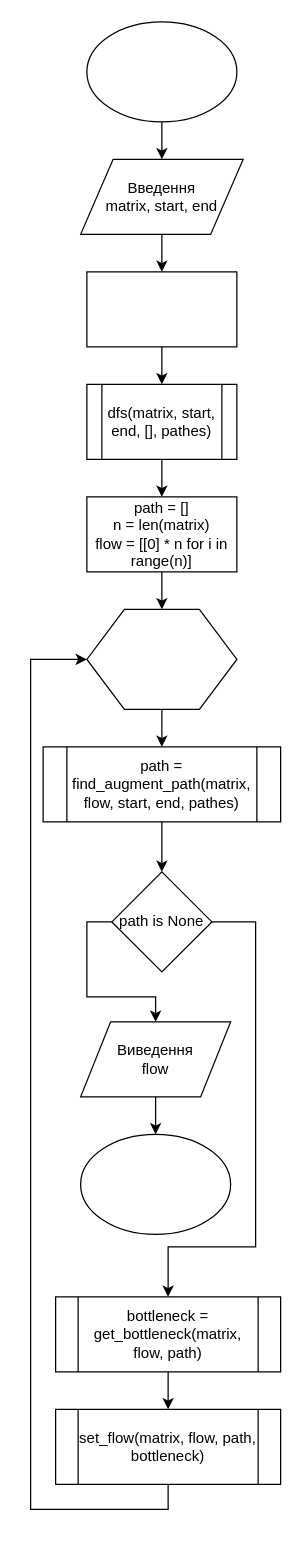
The diagram is 303 pixels wide and 1541 high, and some of its shapes have lost their labels. The shapes that lost their labels are listed below. From the top down, each one's centre as x and y in pixels, then its label:
At point (161, 71): "Початок".
At point (161, 309): "pathes = []".
At point (161, 658): "True".
At point (155, 1183): "Кінець".
